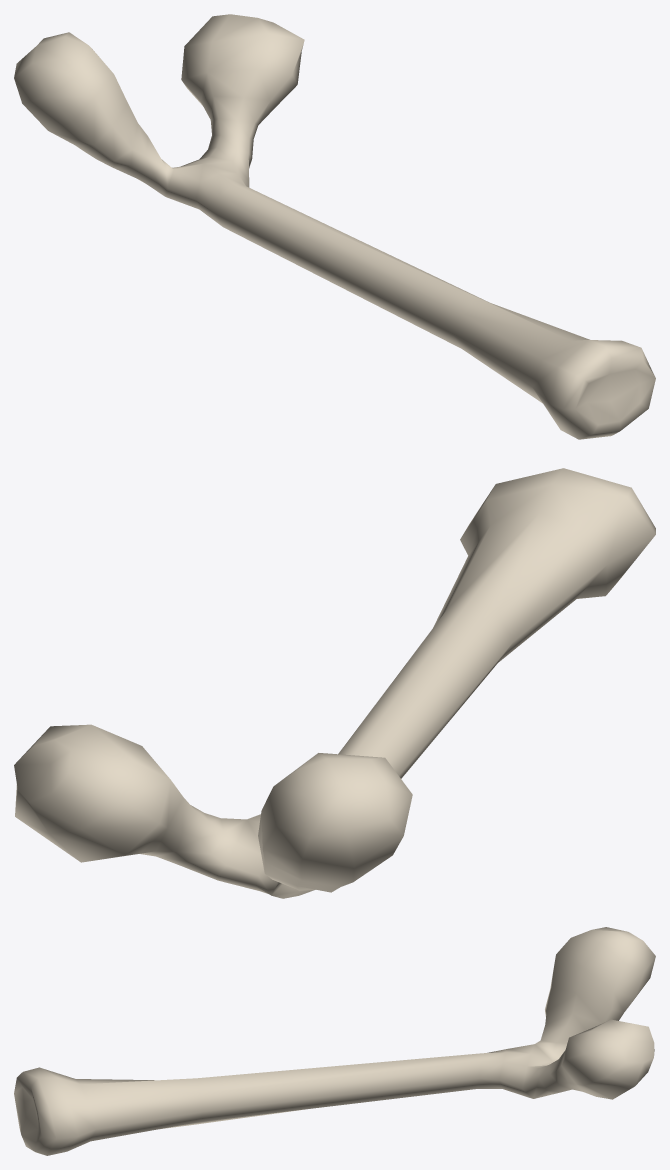
The model's file is Bone_3.glb.
The picture shows the model from 3 angles, top to bottom: view 1: azimuth 30°, elevation 25°; view 2: azimuth 150°, elevation 25°; view 3: azimuth 270°, elevation 25°; orthographic projection. The views are drawn at different scales.
Visible parts, largest first — view 1: Bone_3; view 2: Bone_3; view 3: Bone_3.
Part boxes in pixels (x1,y1,x2,y2): Bone_3: (14, 14, 655, 439); Bone_3: (14, 468, 655, 898); Bone_3: (14, 927, 655, 1155).
Bounding box in the file's own units: 0.2186 × 0.1309 × 0.5178.
